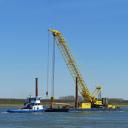tugboat: (6, 93, 50, 116)
